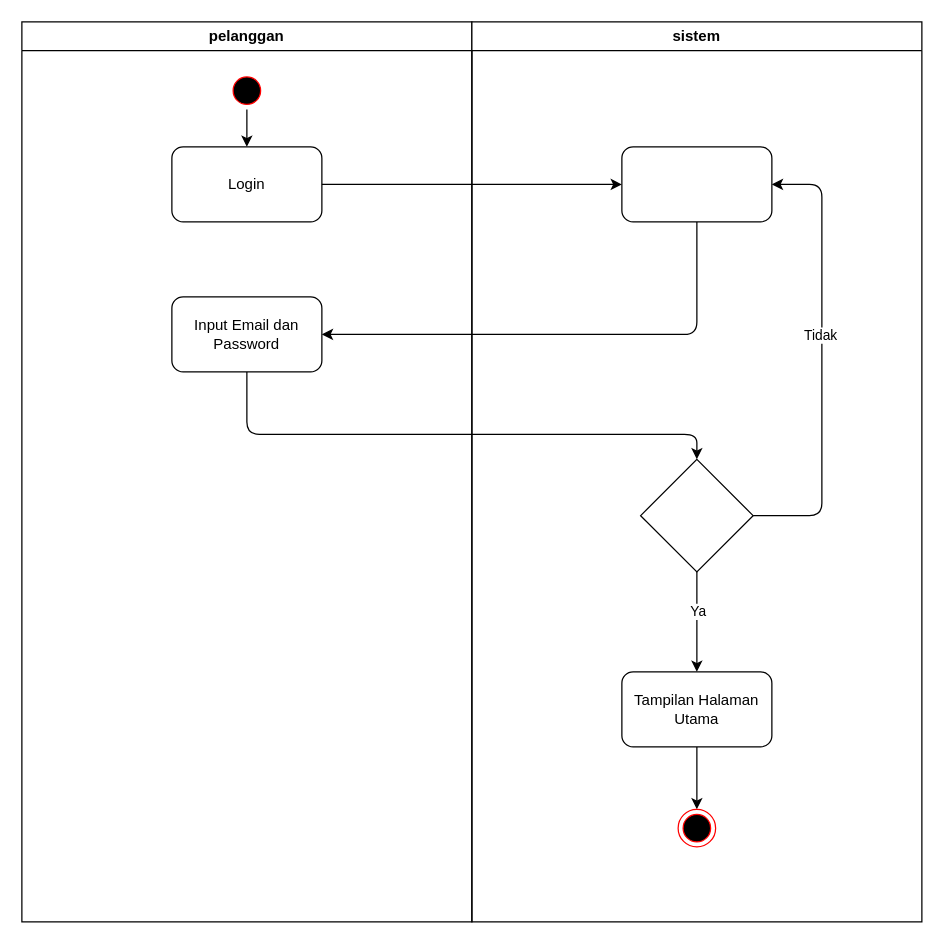
Image size: 944x944. Some labels were removed from this diagram. Here are the shapes that lost their labels. From the top down, the centre of each, then its label:
At (x=696, y=184): "Tampilan Halaman Login".
At (x=696, y=515): "Validasi Input".
